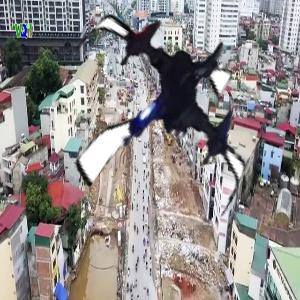drone: (44, 5, 274, 235)
